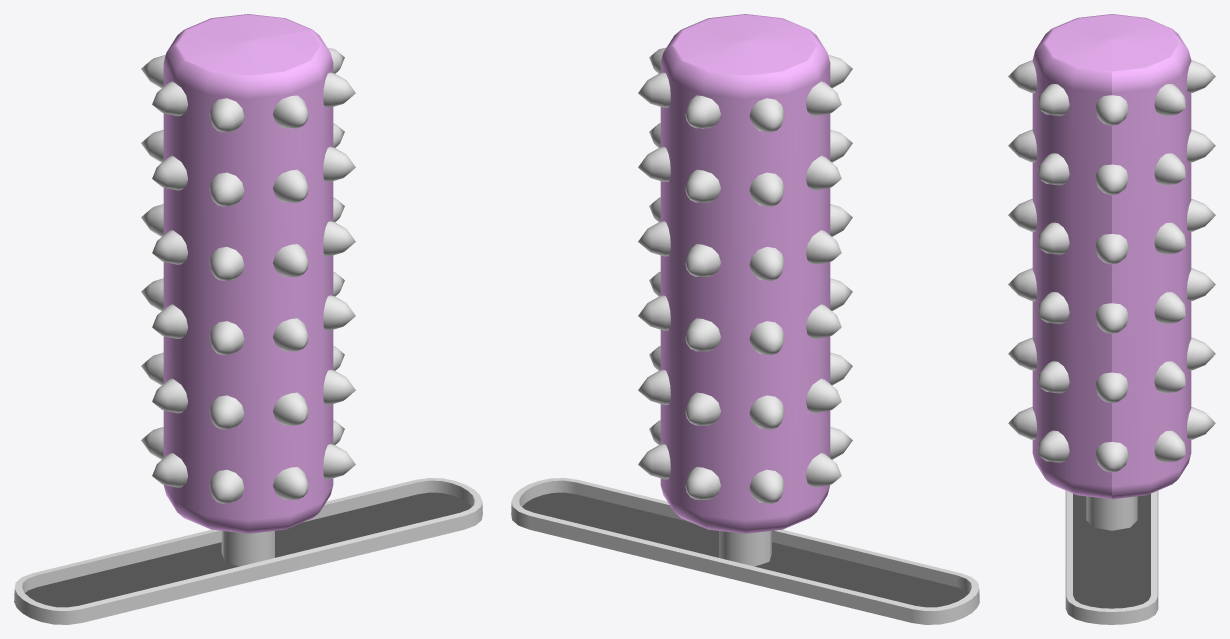
Rendered from Obstacle_41.fbx.
3 views of the same model, side by side, from view 1: azimuth 30°, elevation 25°; view 2: azimuth 150°, elevation 25°; view 3: azimuth 270°, elevation 25° (orthographic). The views are drawn at different scales.
Parts seen in each view (by area): view 1: Quay, De; view 2: Quay, De; view 3: Quay, De.
Boxes of the visible parts, x1,y1,x2,y2 form: Quay: (141,14,355,566); De: (14,478,482,624); Quay: (638,14,852,566); De: (511,478,979,624); Quay: (1008,14,1215,530); De: (1065,490,1158,624).
Bounding box in the file's own units: 2.75 × 3 × 1.17.
